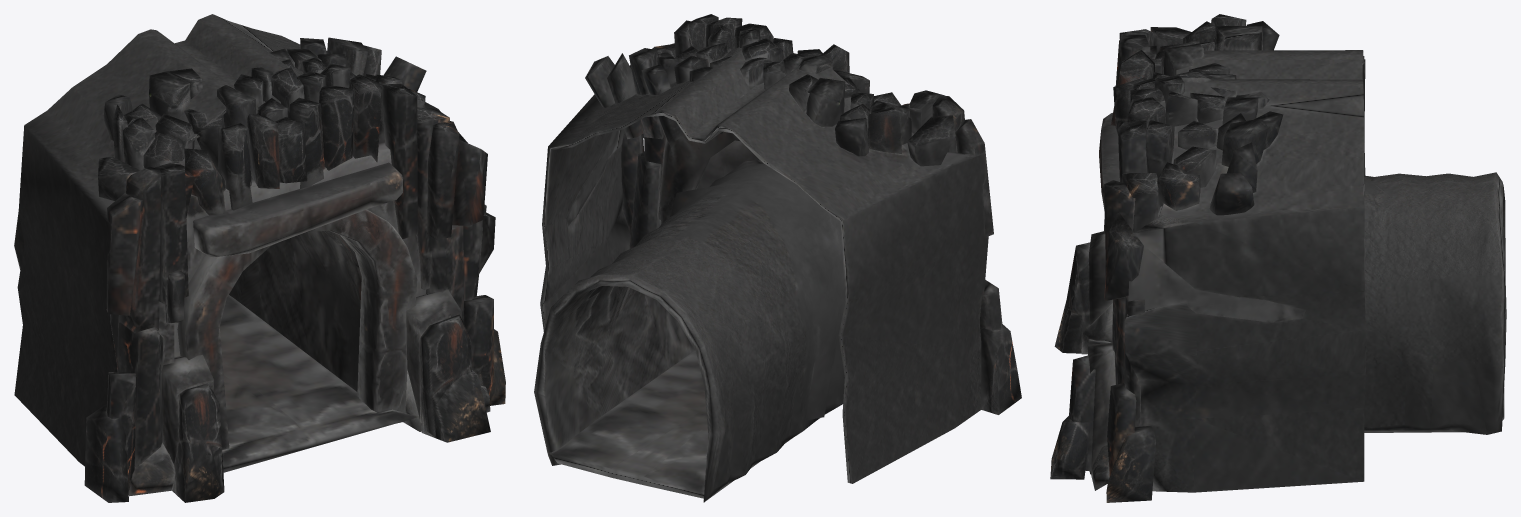
Rendered from goblin-basalt-cave-mouth.glb.
3 views of the same model, side by side, from view 1: azimuth 30°, elevation 25°; view 2: azimuth 150°, elevation 25°; view 3: azimuth 270°, elevation 25° (orthographic). The views are drawn at different scales.
Bounding box in the file's own units: 1 × 0.8129 × 0.974.
Materials: 1 (1 with a texture image).
